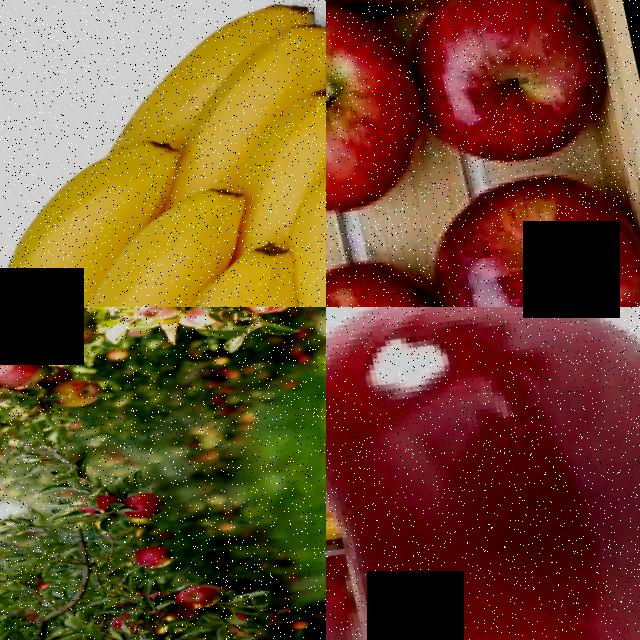apple: (326, 307, 640, 640), (394, 0, 620, 179), (410, 137, 640, 307), (326, 0, 436, 233), (326, 237, 465, 307), (156, 558, 237, 612), (52, 362, 114, 415), (164, 568, 242, 608), (118, 475, 172, 523), (37, 307, 96, 350), (131, 529, 186, 570), (63, 483, 116, 523), (131, 531, 181, 567), (0, 328, 24, 390), (172, 307, 221, 332), (121, 307, 193, 323)
banana: (0, 0, 326, 307)
